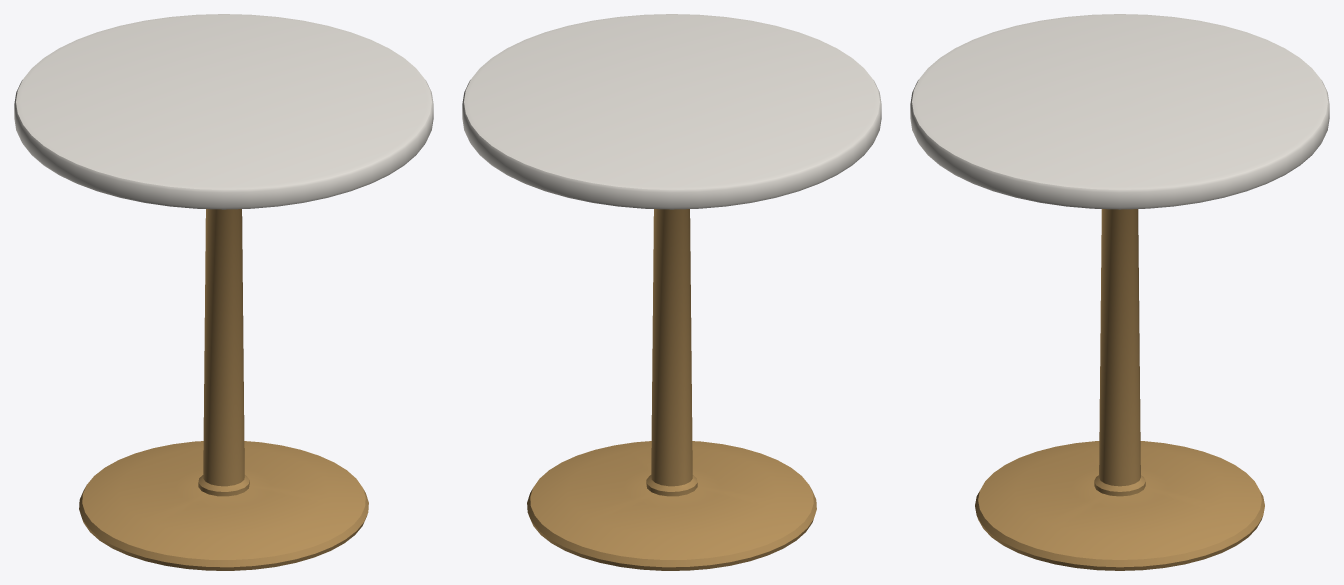
Rendered from sideTableRound.glb.
3 renders of one model, left to right at view 1: azimuth 30°, elevation 25°; view 2: azimuth 150°, elevation 25°; view 3: azimuth 270°, elevation 25°, orthographic.
Parts seen in each view (by area): view 1: sideTableRound; view 2: sideTableRound; view 3: sideTableRound.
Part boxes in pixels (x1,y1,x2,y2): sideTableRound: [14, 14, 433, 570]; sideTableRound: [462, 14, 881, 570]; sideTableRound: [910, 14, 1329, 570].
Size of the model in its own units: 0.52 by 0.56 by 0.52.
